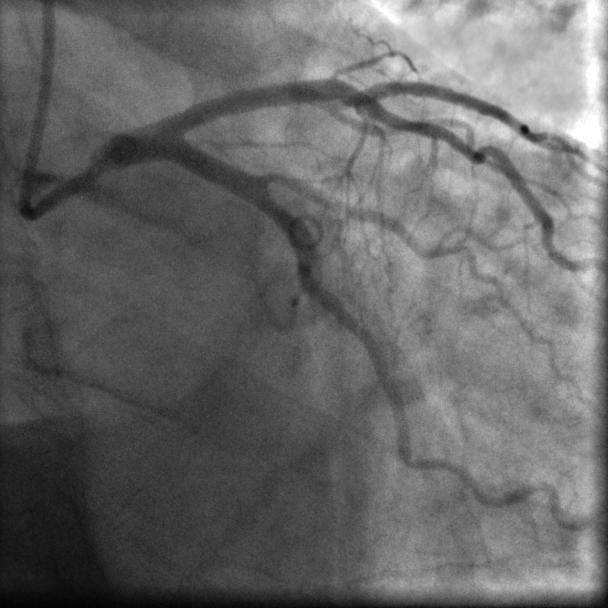Stenosis: (259, 161, 293, 196)
